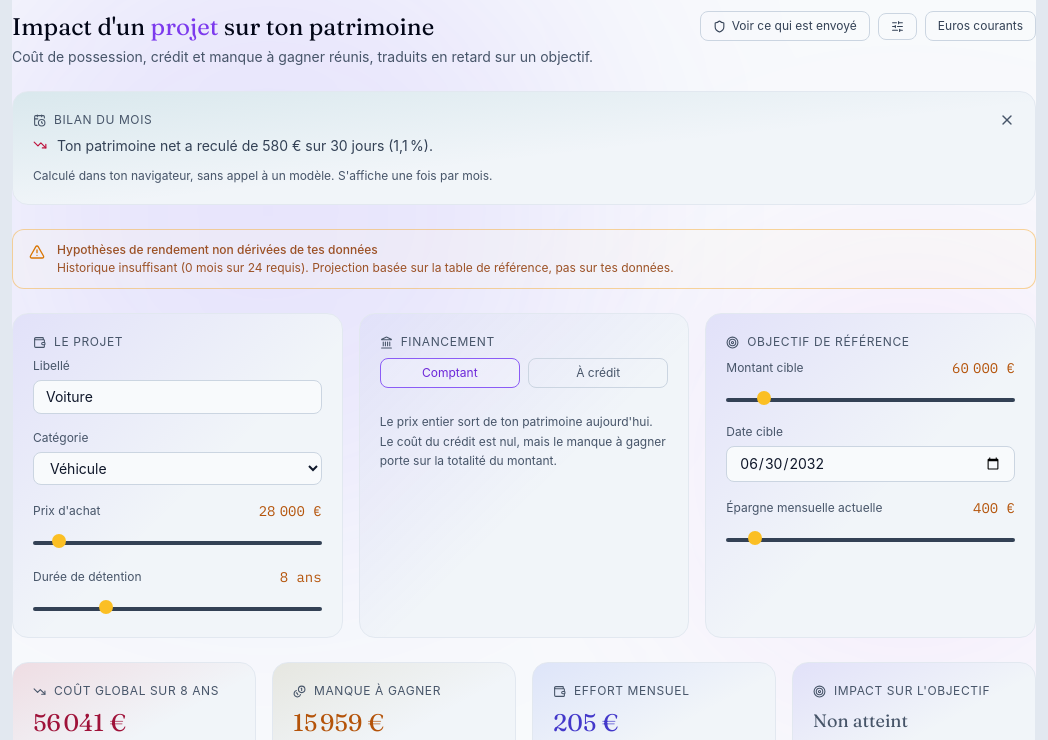
Test case: Projet › bascule entre euros courants et euros constants
Click the button "Euros courants".
click(980, 26)  # box left=925, top=11, right=1036, bottom=41
(page scrolled)
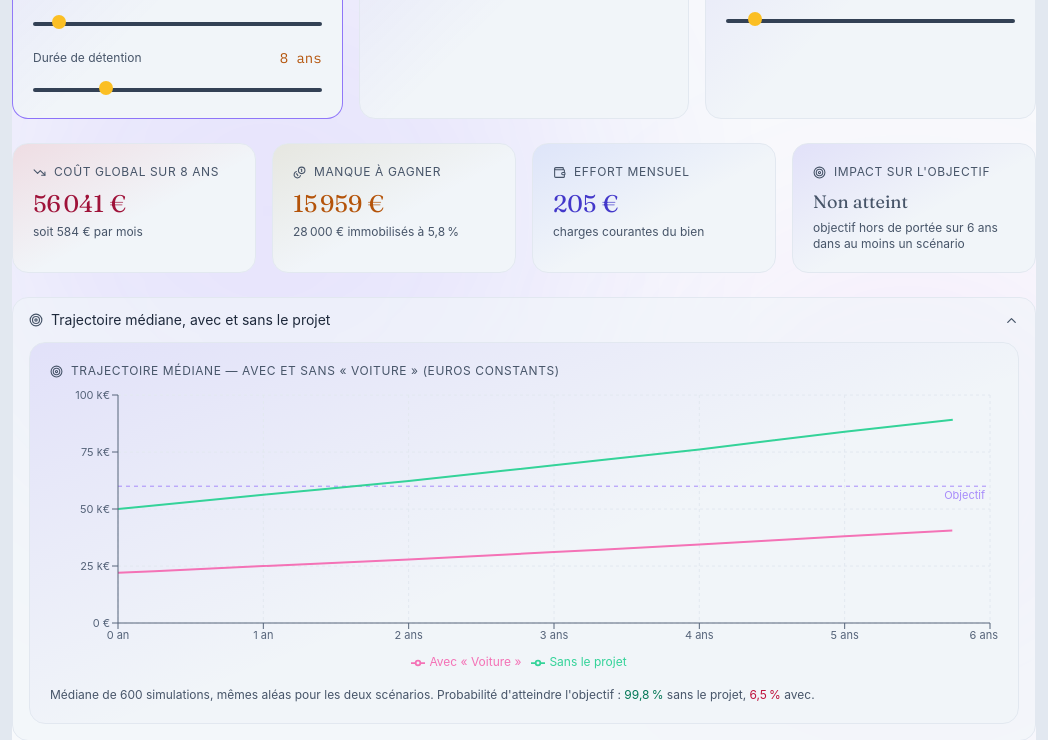
Check: the text "(euros constants)" is shown, box left=423, top=363, right=560, bottom=378
